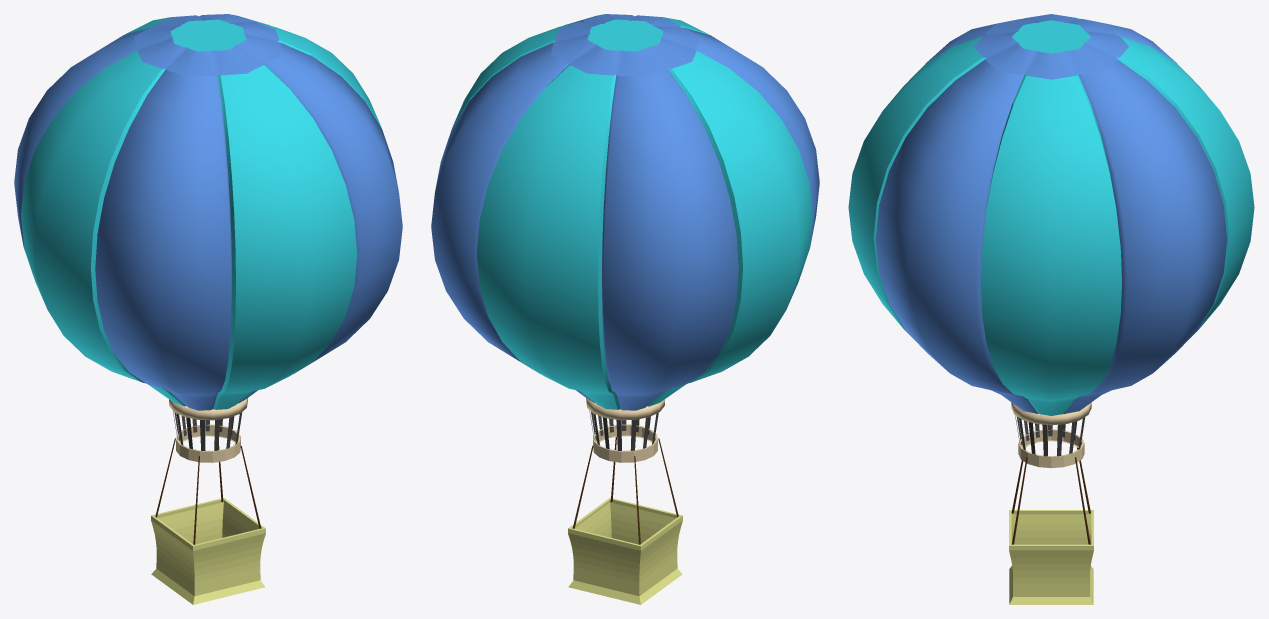
Rendered from 01blueHotballoon.fbx.
3 views of the same model, side by side, from view 1: azimuth 30°, elevation 25°; view 2: azimuth 150°, elevation 25°; view 3: azimuth 270°, elevation 25° (orthographic).
Parts seen in each view (by area): view 1: Sphere.003; view 2: Sphere.003; view 3: Sphere.003.
Boxes of the visible parts, box(x1,y1,x2,y2) form: Sphere.003: box(14, 14, 402, 604); Sphere.003: box(431, 14, 819, 604); Sphere.003: box(848, 14, 1254, 604).
Bounding box in the file's own units: 2056 × 3073 × 2056.
